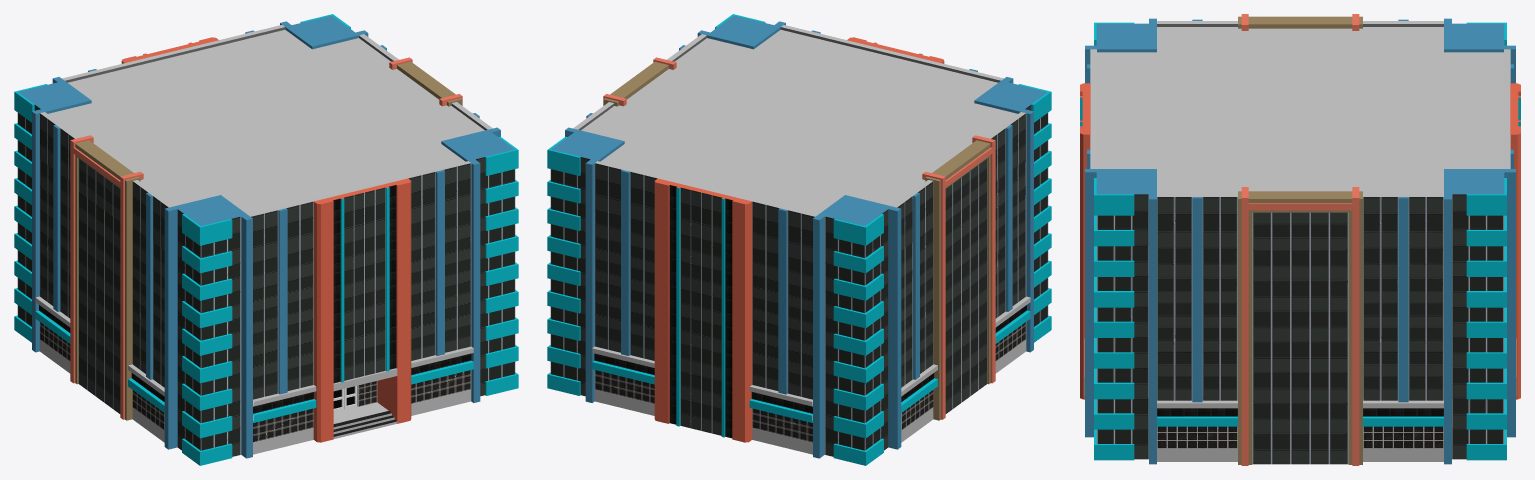
The picture shows the model from 3 angles, left to right: view 1: azimuth 30°, elevation 25°; view 2: azimuth 150°, elevation 25°; view 3: azimuth 270°, elevation 25°; orthographic projection. The views are drawn at different scales.
Parts seen in each view (by area): view 1: Building; view 2: Building; view 3: Building.
Part boxes in pixels (x1,y1,x2,y2): Building: [14, 14, 518, 465]; Building: [547, 14, 1051, 465]; Building: [1080, 14, 1520, 465].
Size of what is drawn, in the model's own units: 38.72 by 26.3 by 39.2.
